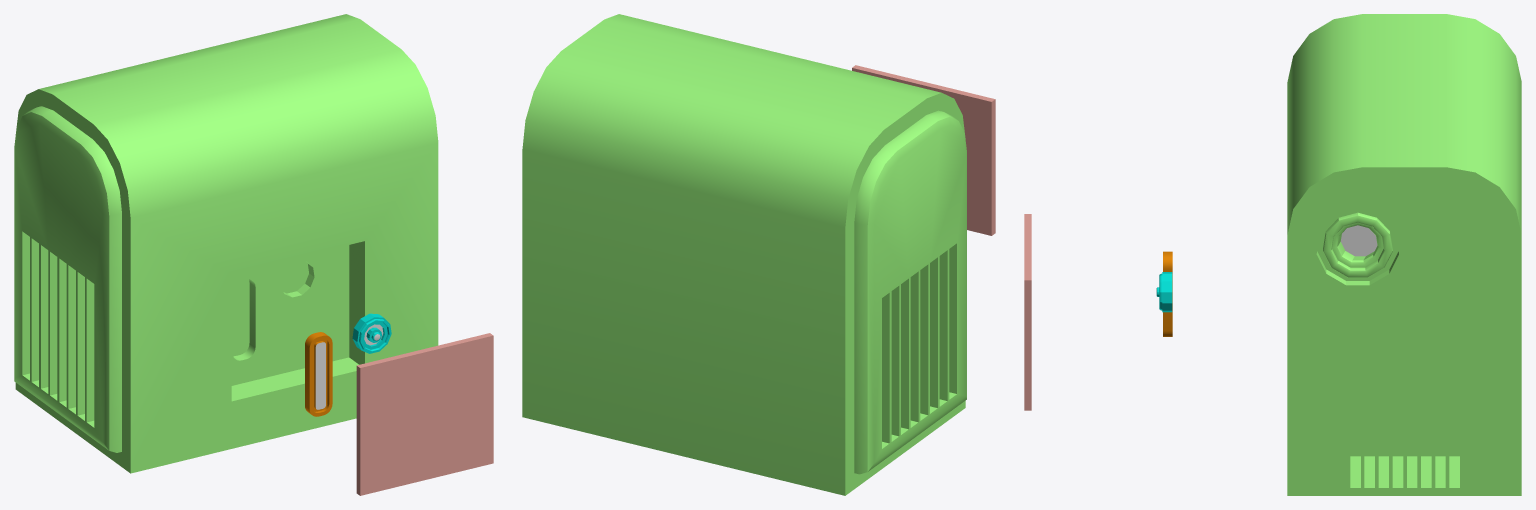
Rendered from BLEU_SCREEN_GENERATOR_2.fbx.
3 renders of one model, left to right at view 1: azimuth 30°, elevation 25°; view 2: azimuth 150°, elevation 25°; view 3: azimuth 270°, elevation 25°, orthographic. The views are drawn at different scales.
Parts seen in each view (by area): view 1: Cube, Cube.001, Cube.002, Cube.003; view 2: Cube, Cube.001; view 3: Cube, Cube.001, Cube.003.
Boxes of the visible parts, <box> form: Cube: <box>14,14,438,473</box>; Cube.001: <box>356,333,493,495</box>; Cube.002: <box>305,332,332,416</box>; Cube.003: <box>352,313,391,353</box>; Cube: <box>522,14,966,495</box>; Cube.001: <box>852,65,995,235</box>; Cube: <box>1287,14,1521,495</box>; Cube.001: <box>1024,214,1031,410</box>; Cube.003: <box>1156,272,1172,312</box>.
Size of the model in its own units: 105 by 100 by 137.
